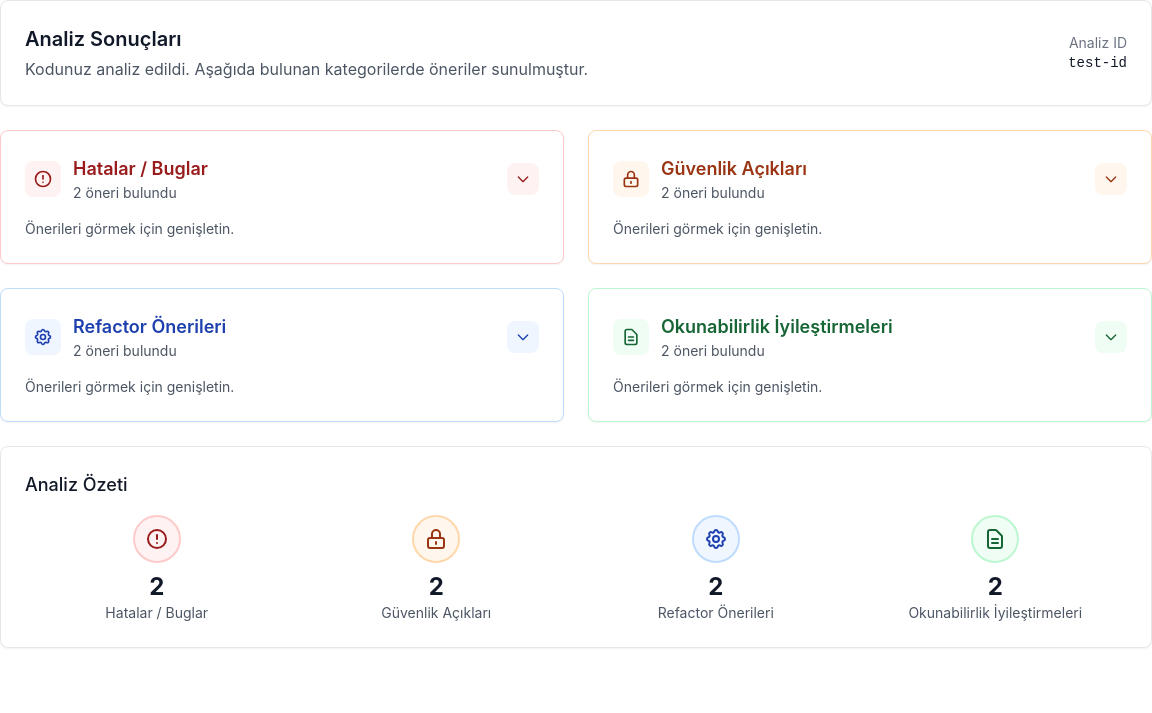
Test case: AnalysisResults Component › shows refactor suggestions when expanded
The image size is (1152, 713).
// Expand refactor section
Click the 3rd button. click: (523, 337)
box: [507,321,539,353]
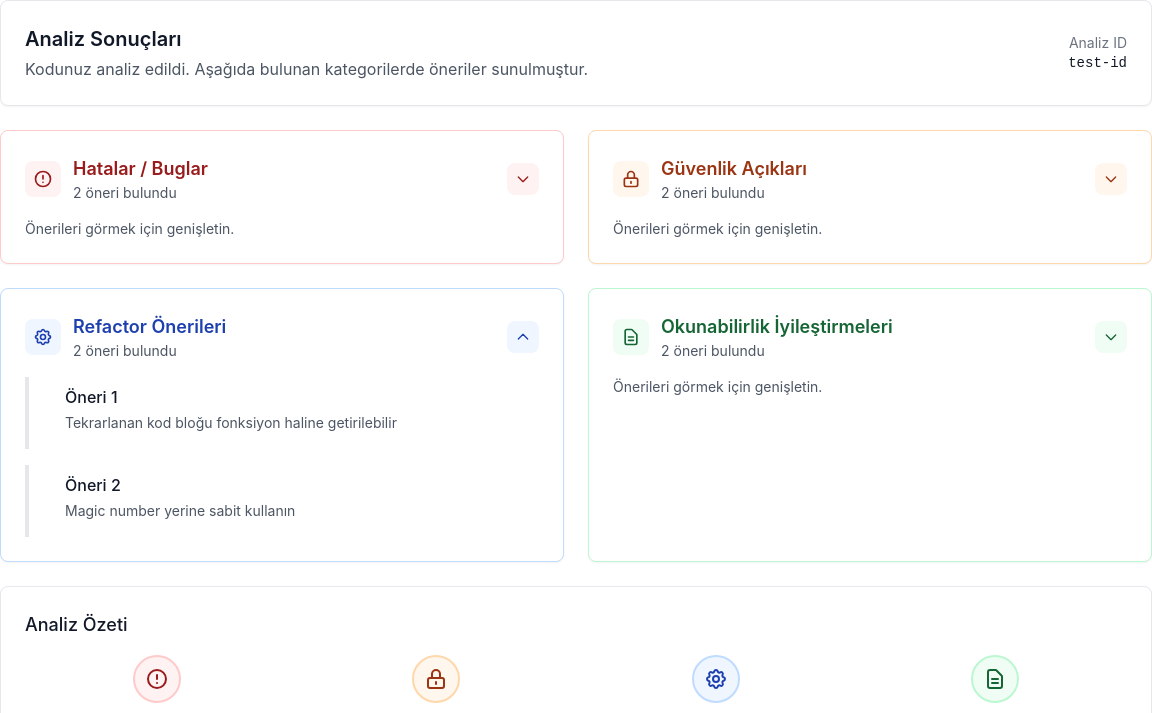
Expected: the text "Tekrarlanan kod bloğu fonksiyon haline getirilebilir" is shown, [65,414,397,431]
Expected: the text "Magic number yerine sabit kullanın" is shown, [65,502,295,519]
